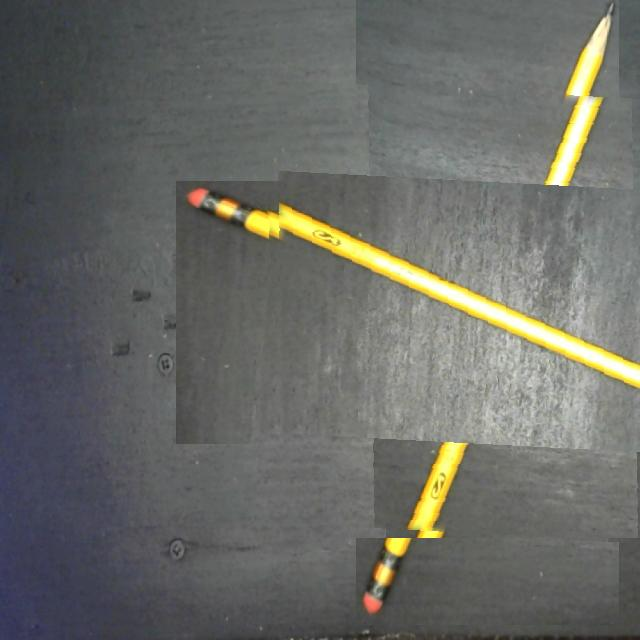biodegradable: (259, 85, 640, 538)
